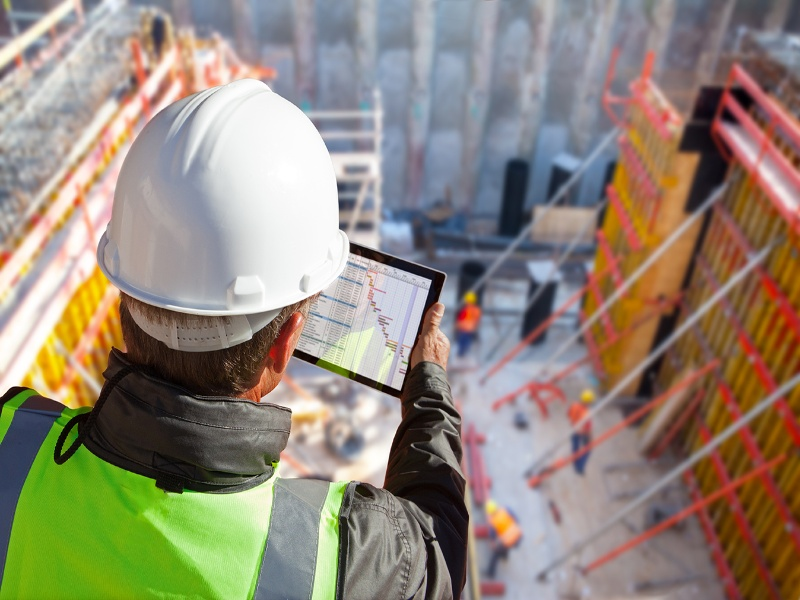helm proyek: (85, 61, 375, 415)
